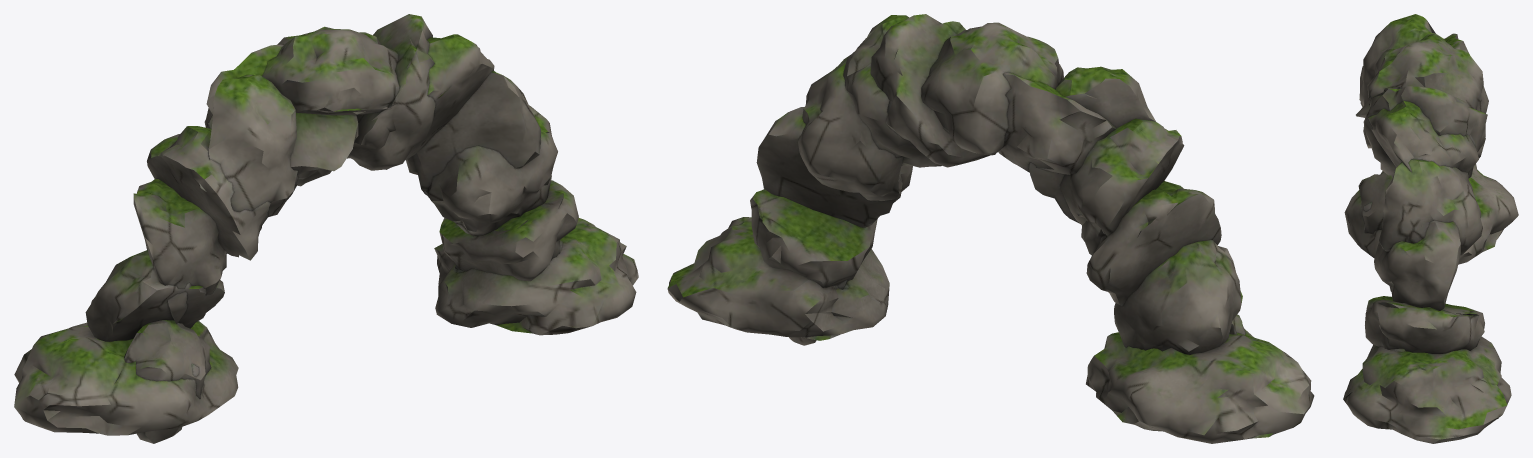
The model's file is arch.glb.
3 views of the same model, side by side, from view 1: azimuth 30°, elevation 25°; view 2: azimuth 150°, elevation 25°; view 3: azimuth 270°, elevation 25° (orthographic). The views are drawn at different scales.
Parts seen in each view (by area): view 1: Arch; view 2: Arch; view 3: Arch.
Boxes of the visible parts, <box> form: Arch: <box>14,14,638,443</box>; Arch: <box>667,14,1314,443</box>; Arch: <box>1343,14,1518,443</box>.
Size of the model in its own units: 2.85 by 1.54 by 0.8142.
Materials: 1 (1 with a texture image).
